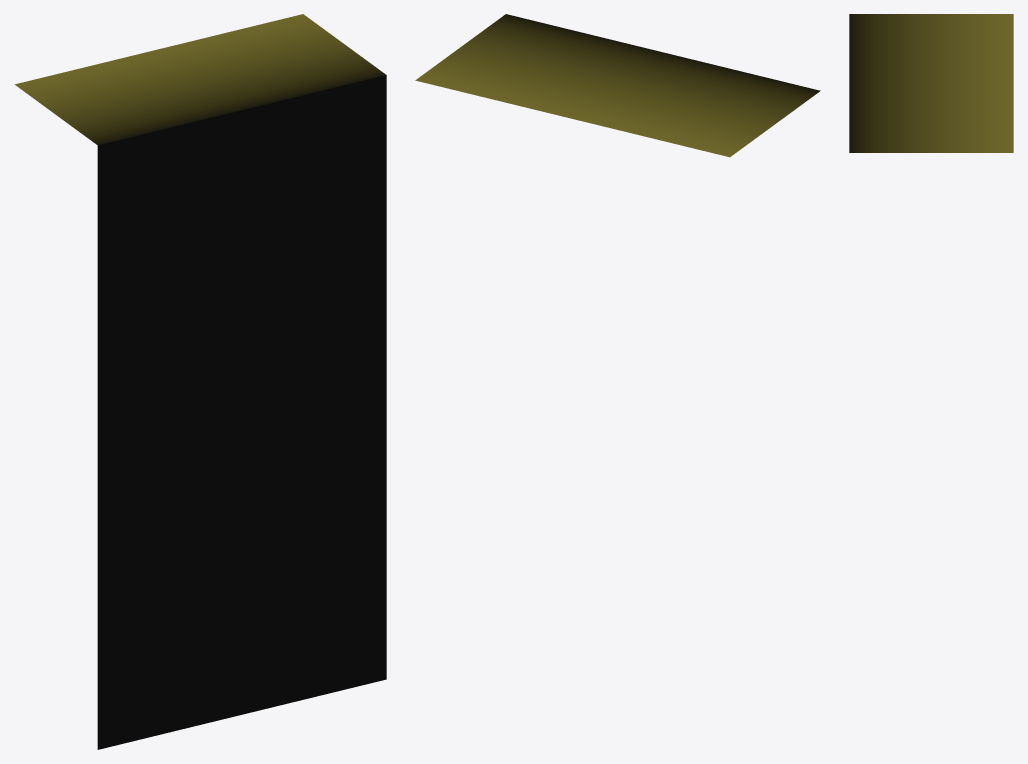
3 renders of one model, left to right at view 1: azimuth 30°, elevation 25°; view 2: azimuth 150°, elevation 25°; view 3: azimuth 270°, elevation 25°, orthographic. The views are drawn at different scales.
Bounding box in the file's own units: 1 × 2 × 0.5.
1 material, 1 textured.
